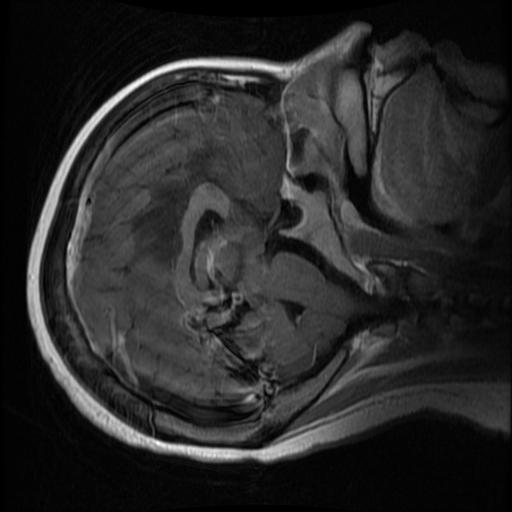glioma: (128, 138, 215, 264)
